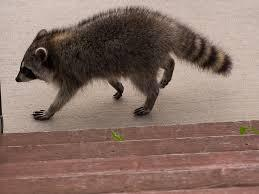raccoon: (15, 5, 231, 121)
